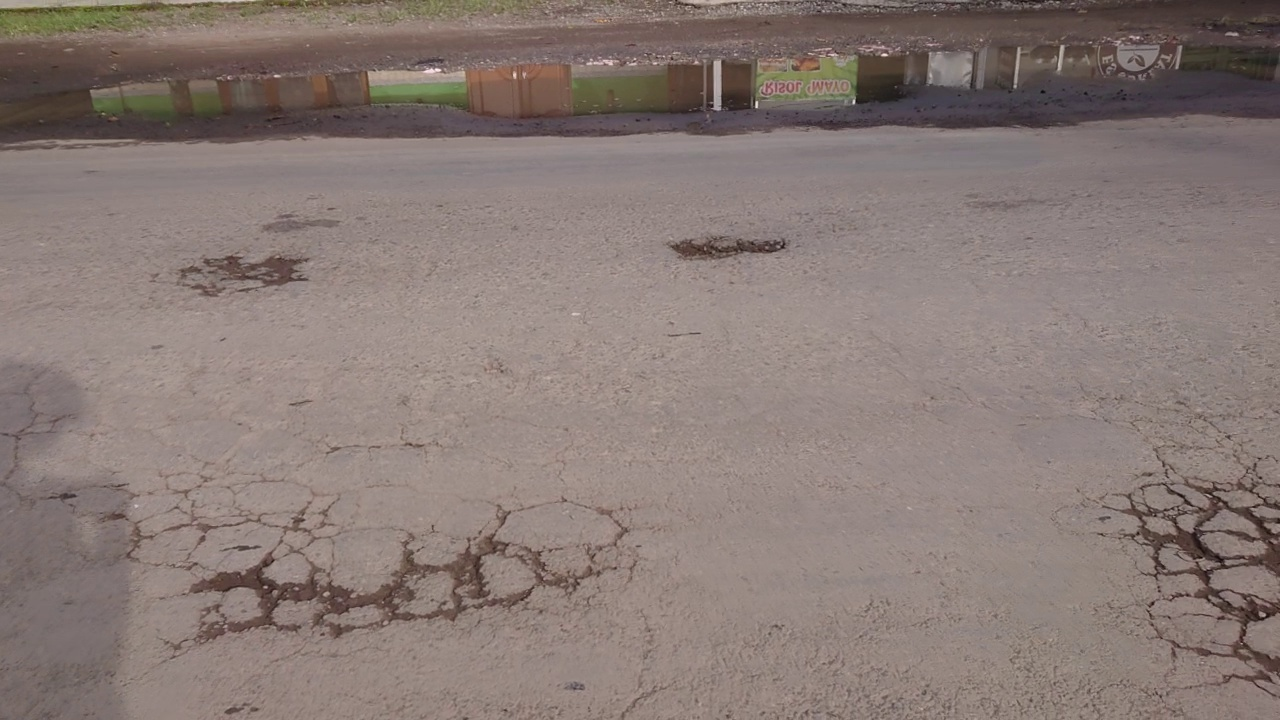Retak: (169, 488, 608, 609), (1104, 450, 1277, 690), (178, 254, 290, 294), (668, 240, 799, 264)
